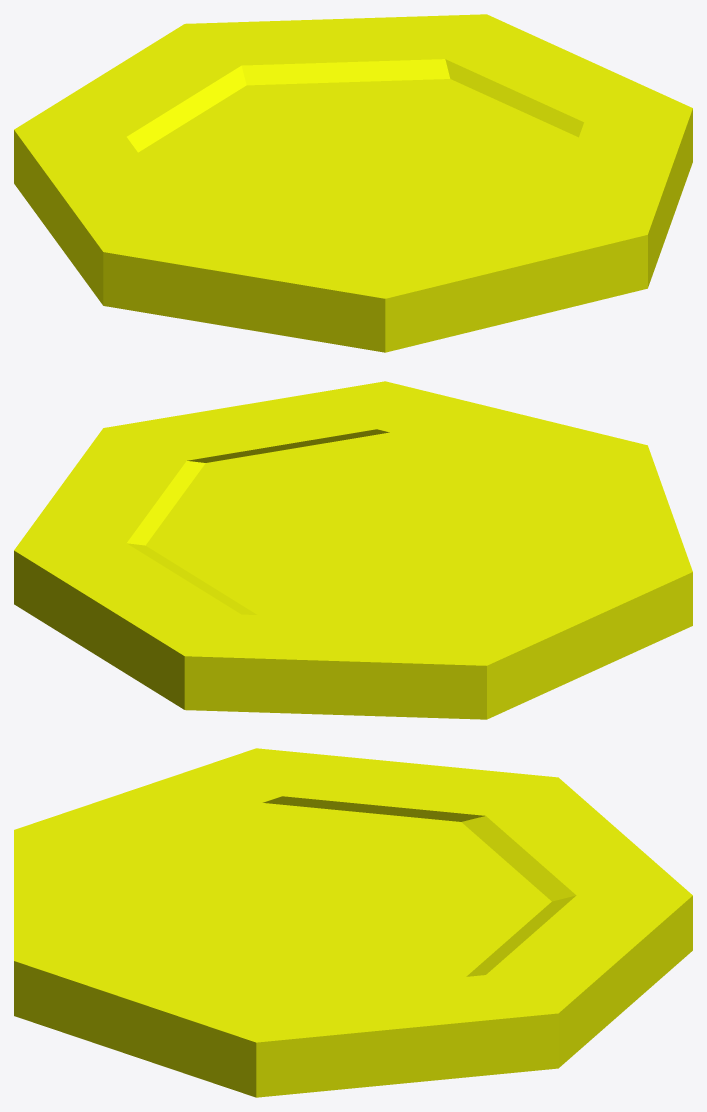
File: coin 1.fbx
3 views of the same model, one above another, from view 1: azimuth 30°, elevation 25°; view 2: azimuth 150°, elevation 25°; view 3: azimuth 270°, elevation 25° (orthographic). The views are drawn at different scales.
Parts seen in each view (by area): view 1: Cylinder; view 2: Cylinder; view 3: Cylinder.
Part boxes in pixels (x1,y1,x2,y2): Cylinder: (14, 14, 692, 352); Cylinder: (14, 381, 692, 719); Cylinder: (14, 748, 692, 1097).
Bounding box in the file's own units: 0.69 × 0.0602 × 0.6727.
